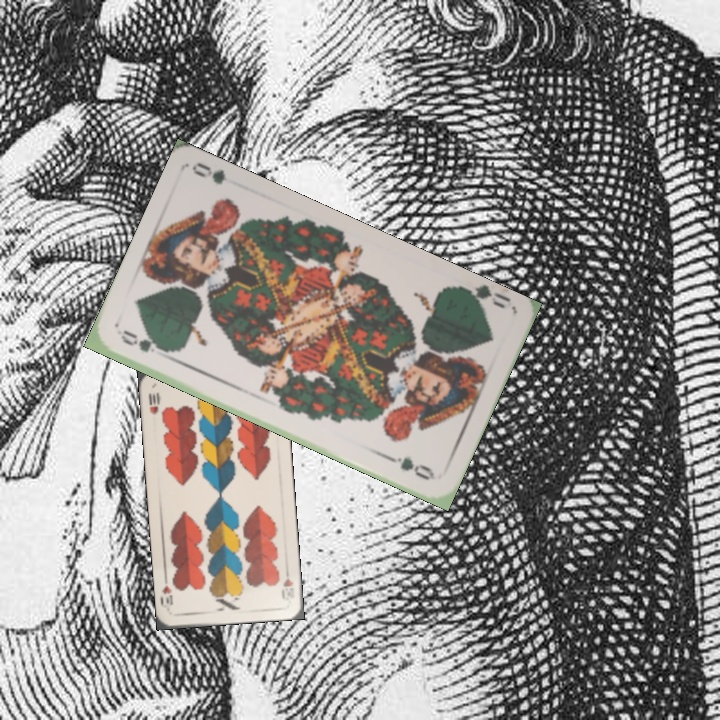GO: (456, 281, 512, 315), (116, 326, 173, 356)
H10: (278, 574, 296, 602), (145, 388, 162, 417)
